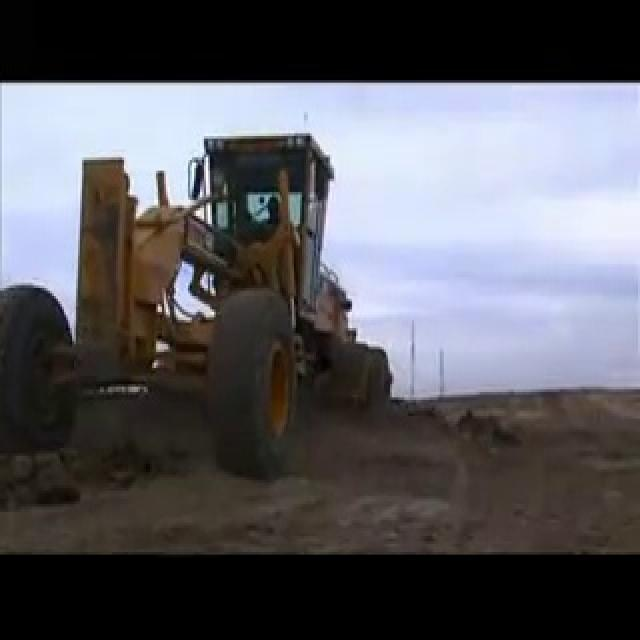buldozerpayloadergrader: (2, 133, 394, 480)
